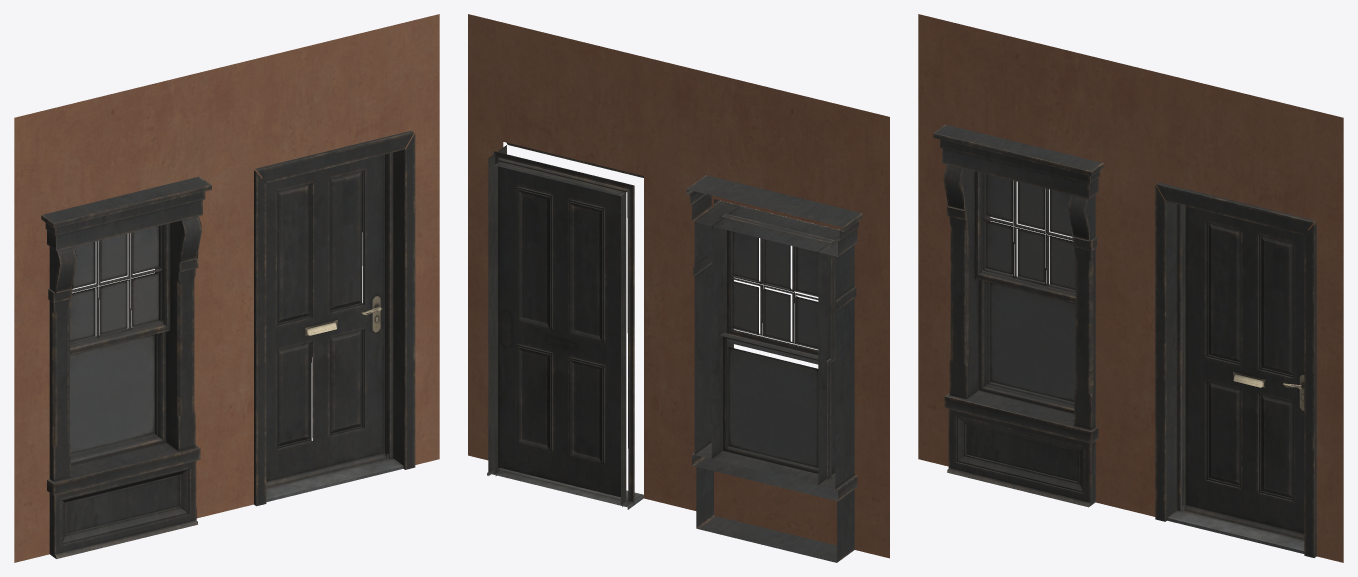
The model's file is bay_shop.gltf.
3 views of the same model, side by side, from view 1: azimuth 30°, elevation 25°; view 2: azimuth 150°, elevation 25°; view 3: azimuth 330°, elevation 25° (orthographic).
Parts seen in each view (by area): view 1: bay_shop; view 2: bay_shop; view 3: bay_shop.
Part boxes in pixels (x1,y1,x2,y2): bay_shop: (14,14,439,562); bay_shop: (468,14,889,562); bay_shop: (918,14,1343,562).
Bounding box in the file's own units: 3 × 3 × 0.3893.
Materials: 3 (3 with a texture image).
